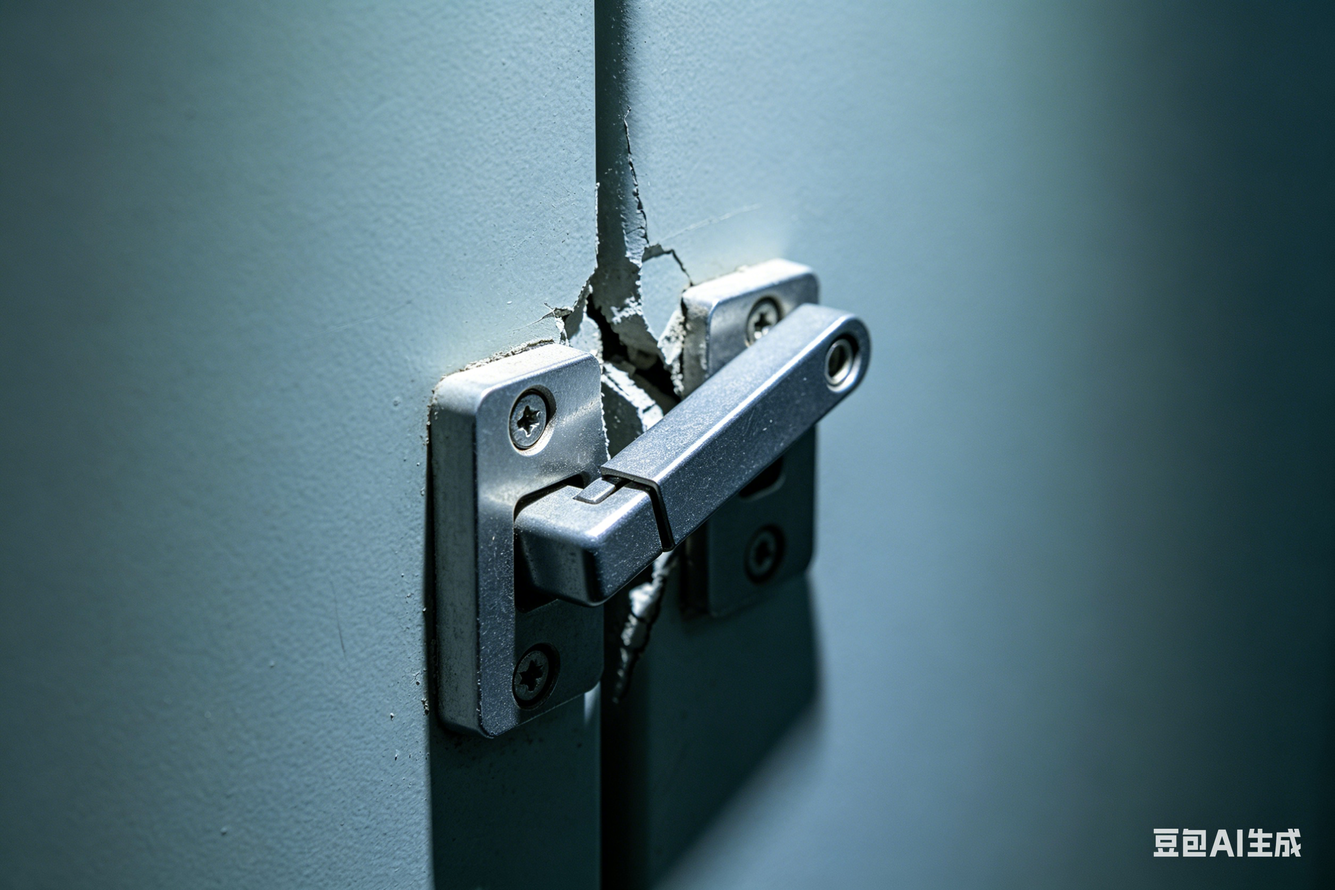BadLock: (514, 294, 779, 706)
